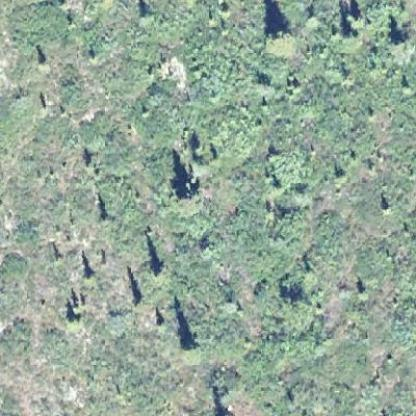tree-top: (263, 26, 293, 58), (172, 183, 200, 213), (286, 286, 312, 312), (146, 256, 170, 281), (179, 336, 201, 361)
